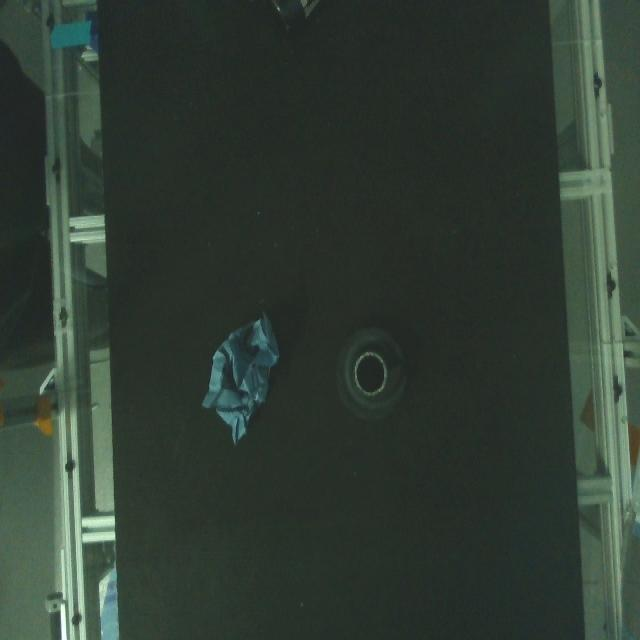non-paper: (324, 305, 424, 430)
paper: (198, 302, 287, 460)
